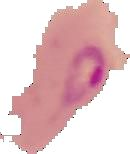parasitized: (57, 40, 105, 113)
